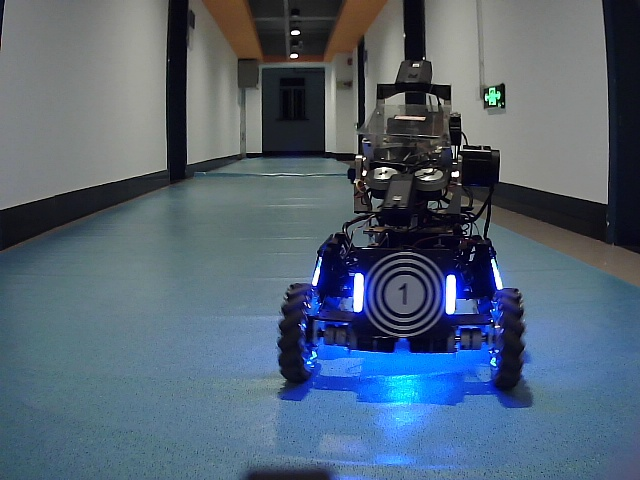lamp: (441, 272, 460, 320), (353, 270, 366, 318), (309, 254, 324, 288), (490, 258, 504, 290)
pair: (353, 272, 456, 315)
